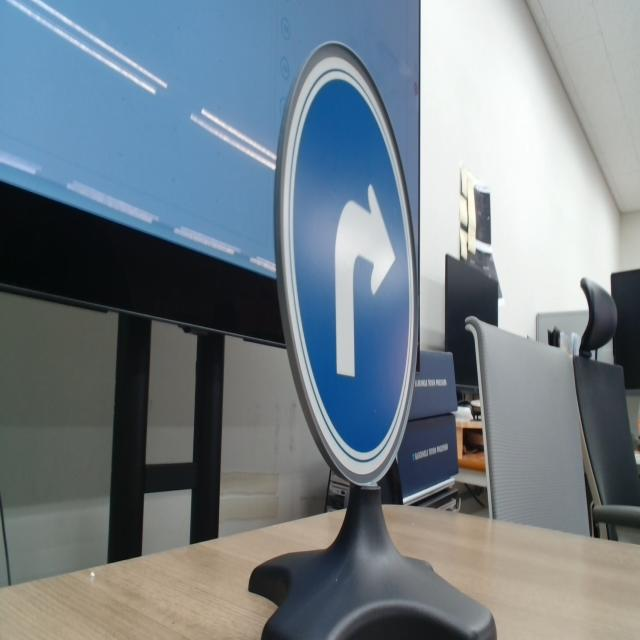right_dierection: (237, 7, 449, 516)
